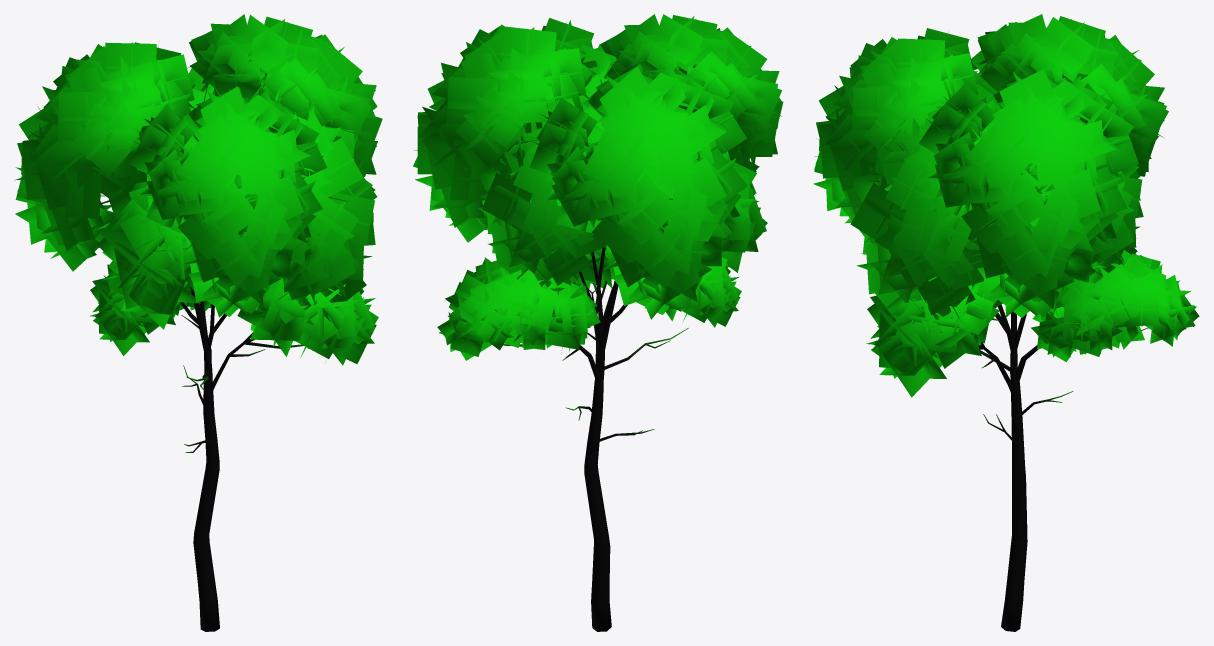
Rendered from Tree_Birch_01.fbx.
The picture shows the model from 3 angles, left to right: view 1: azimuth 30°, elevation 25°; view 2: azimuth 150°, elevation 25°; view 3: azimuth 270°, elevation 25°; orthographic projection.
Visible parts, largest first — view 1: IL3DN_Tree_Birch_01_LOD0; view 2: IL3DN_Tree_Birch_01_LOD0; view 3: IL3DN_Tree_Birch_01_LOD0.
Part boxes in pixels (x1,y1,x2,y2): IL3DN_Tree_Birch_01_LOD0: (14, 14, 382, 631); IL3DN_Tree_Birch_01_LOD0: (413, 14, 783, 631); IL3DN_Tree_Birch_01_LOD0: (813, 14, 1199, 631).
Size of what is drawn, in the model's own units: 300 by 518 by 309.
